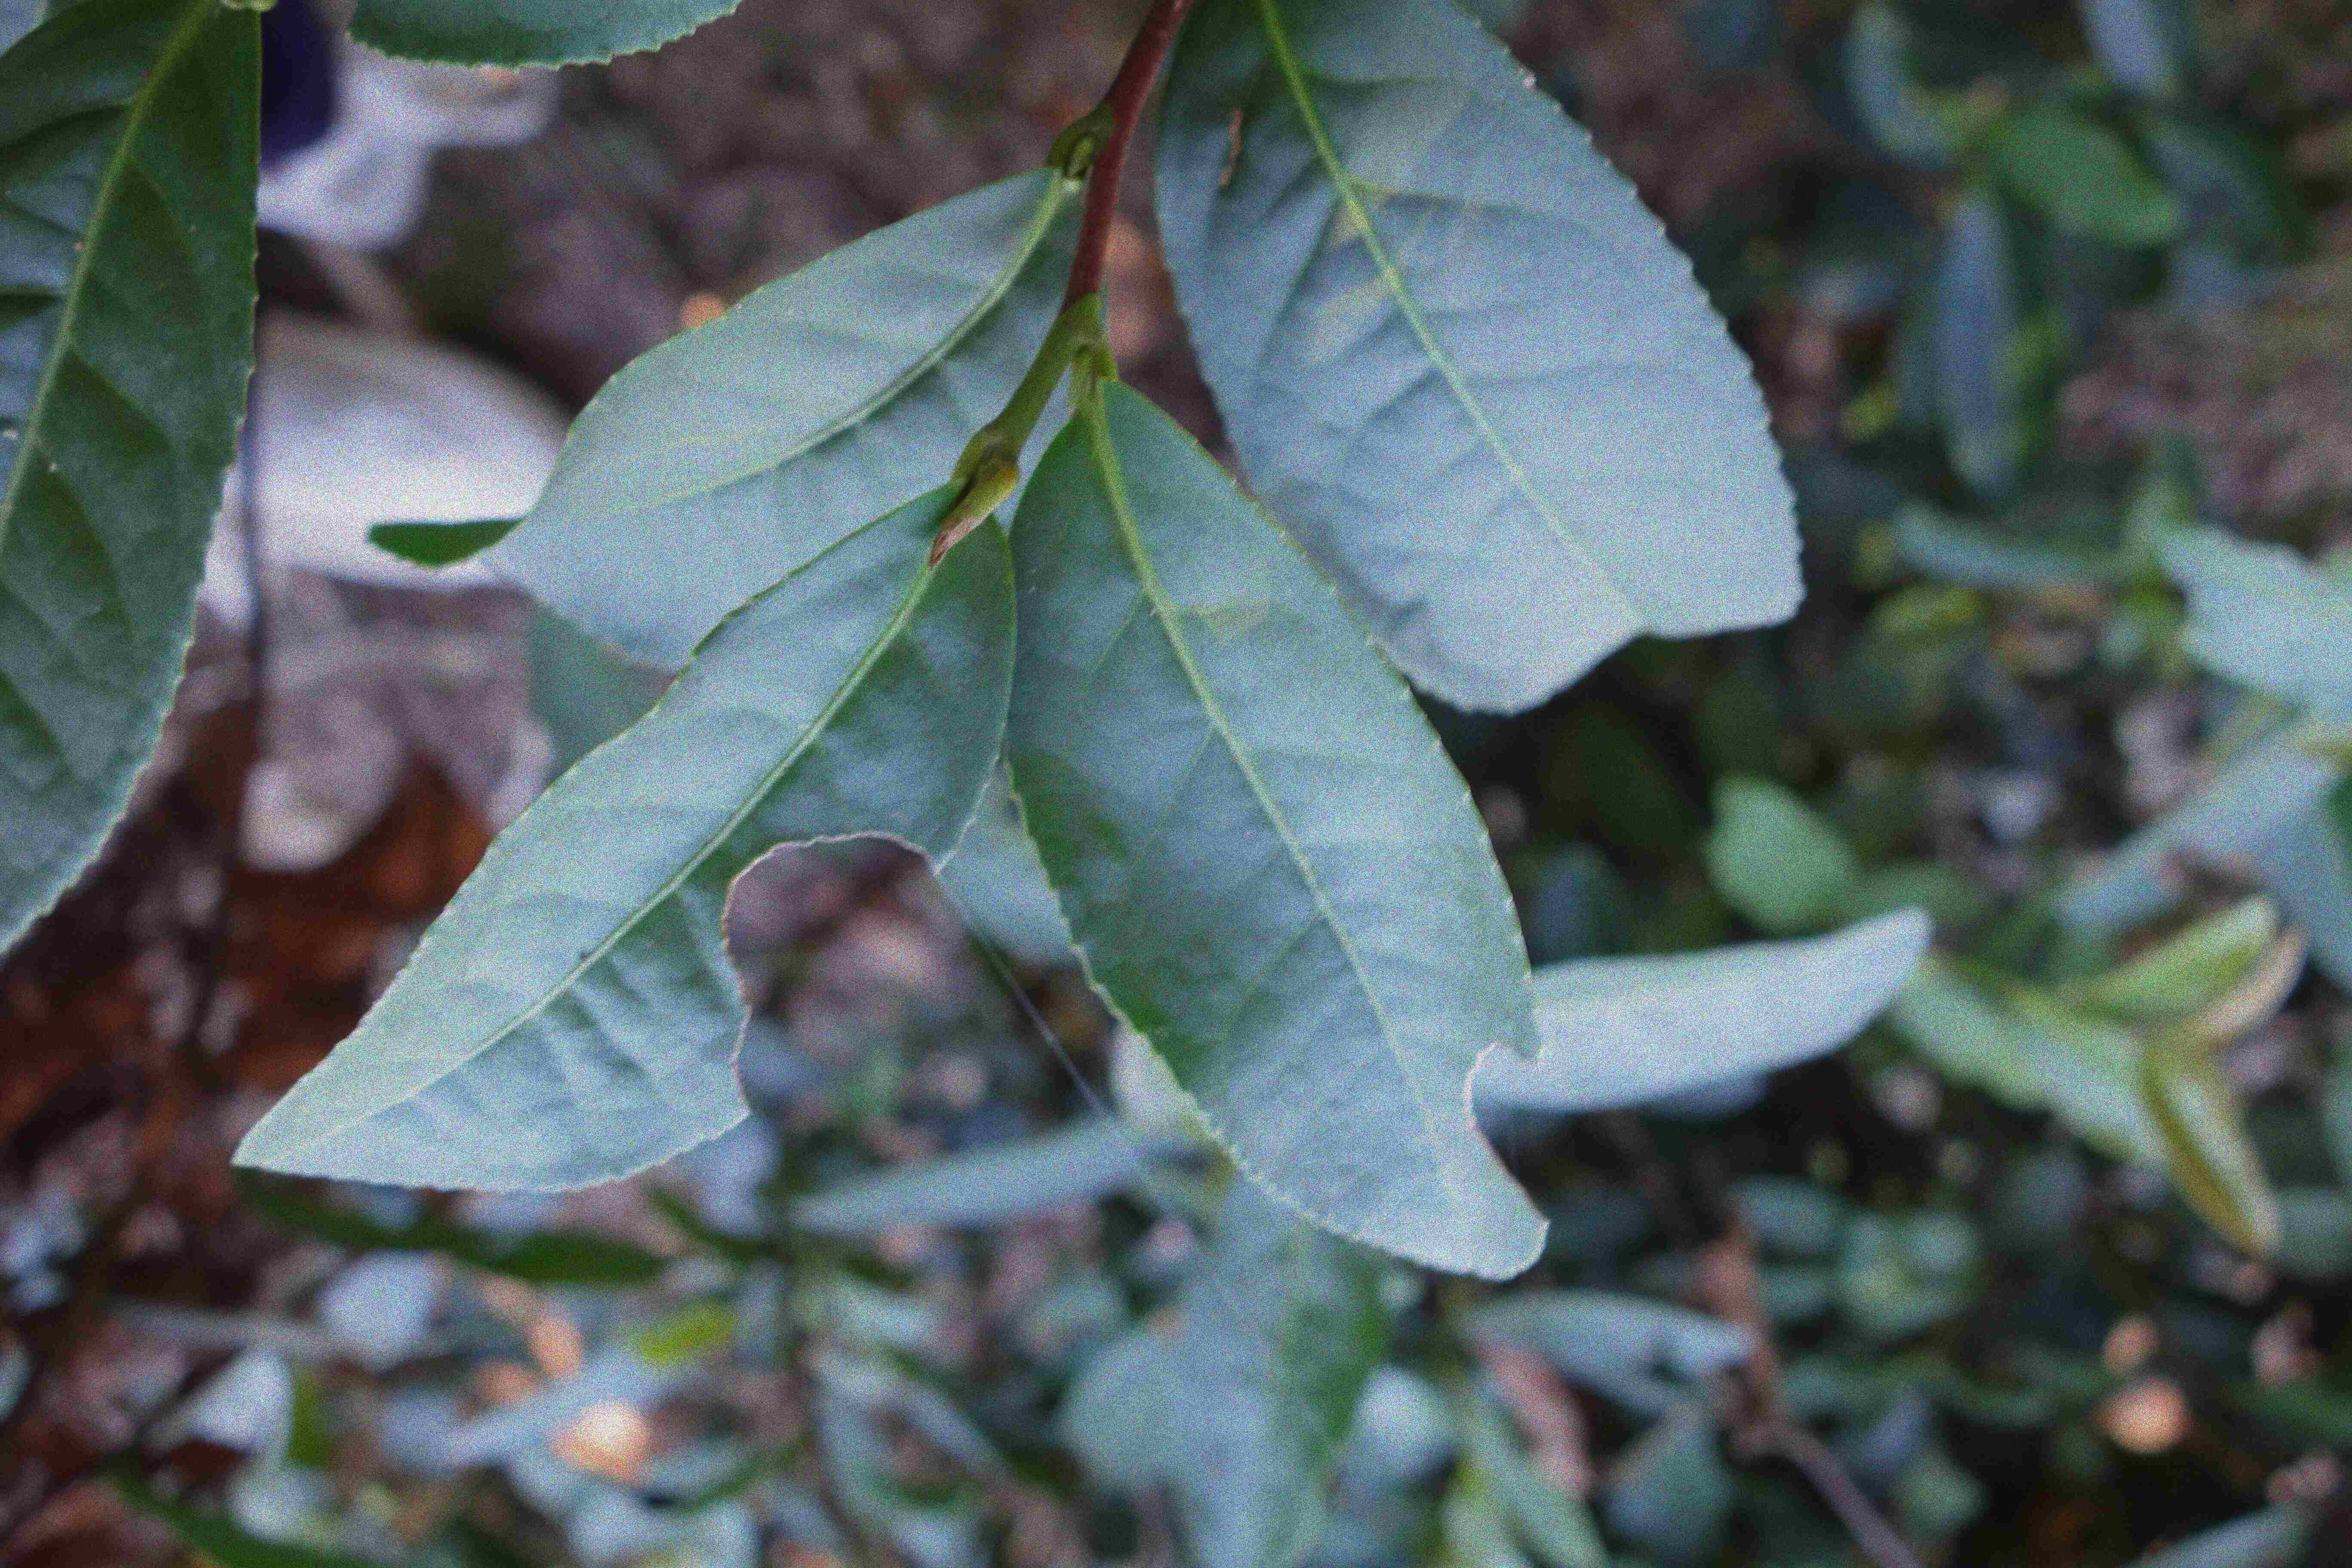chihuo_low: (231, 483, 1018, 1193), (1008, 376, 1556, 1281), (1155, 7, 1811, 719)
